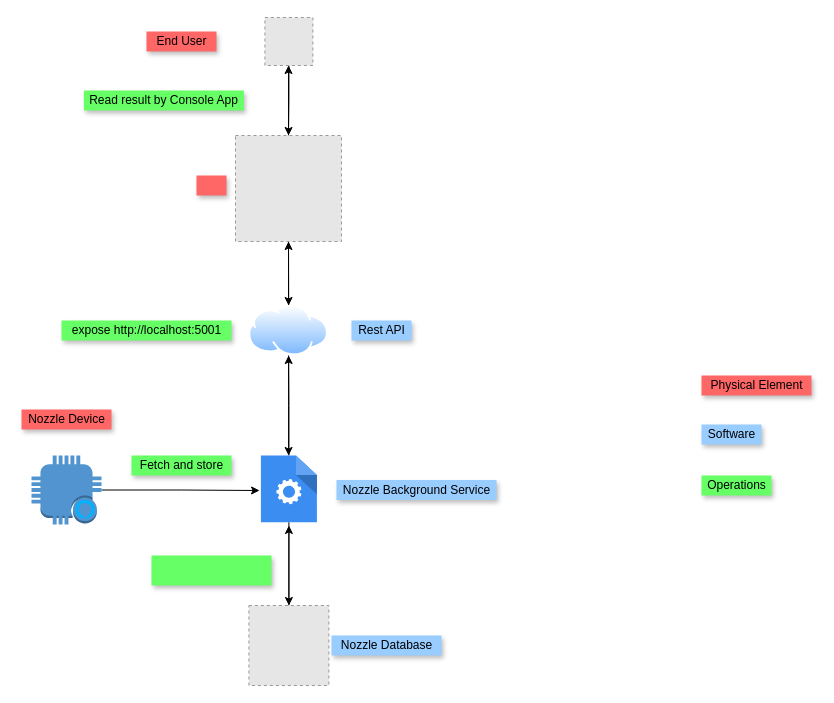
Image size: 834x703. Some labels were removed from this diagram. Grey dashed boxes stand in for pictures. The shapes that lost their labels are listed below. From the top down, each one's centre as x and y in pixels, then its label:
At point (212, 186): "PC".
At point (212, 571): "Service access DB by user/password".
